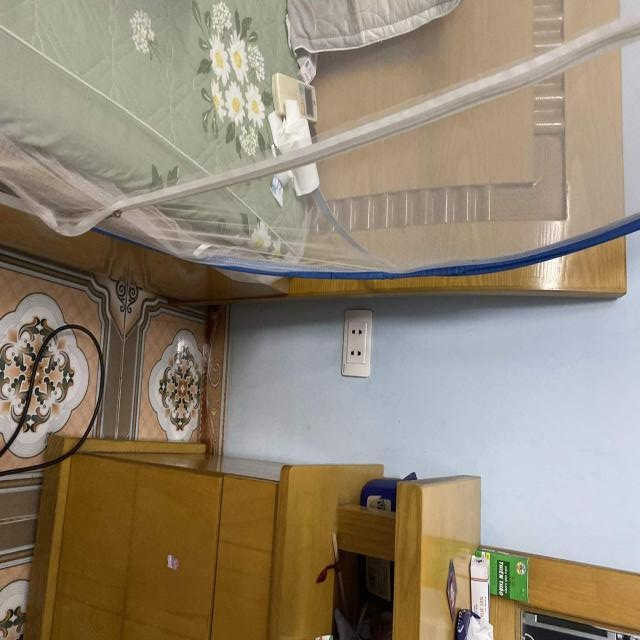outlet: (342, 308, 373, 377)
